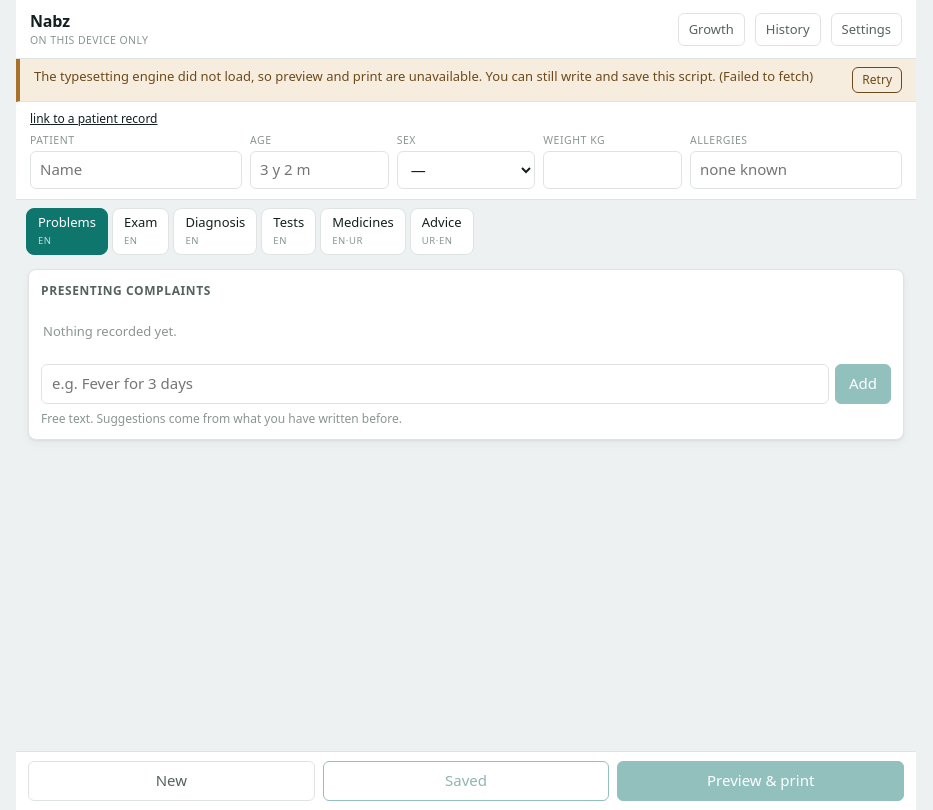
Test: problems and diagnosis are free text › offers no chips for diagnosis
The image size is (933, 810).
Click the tab "Diagnosis EN".
click(215, 232)  # box [174,208,257,255]
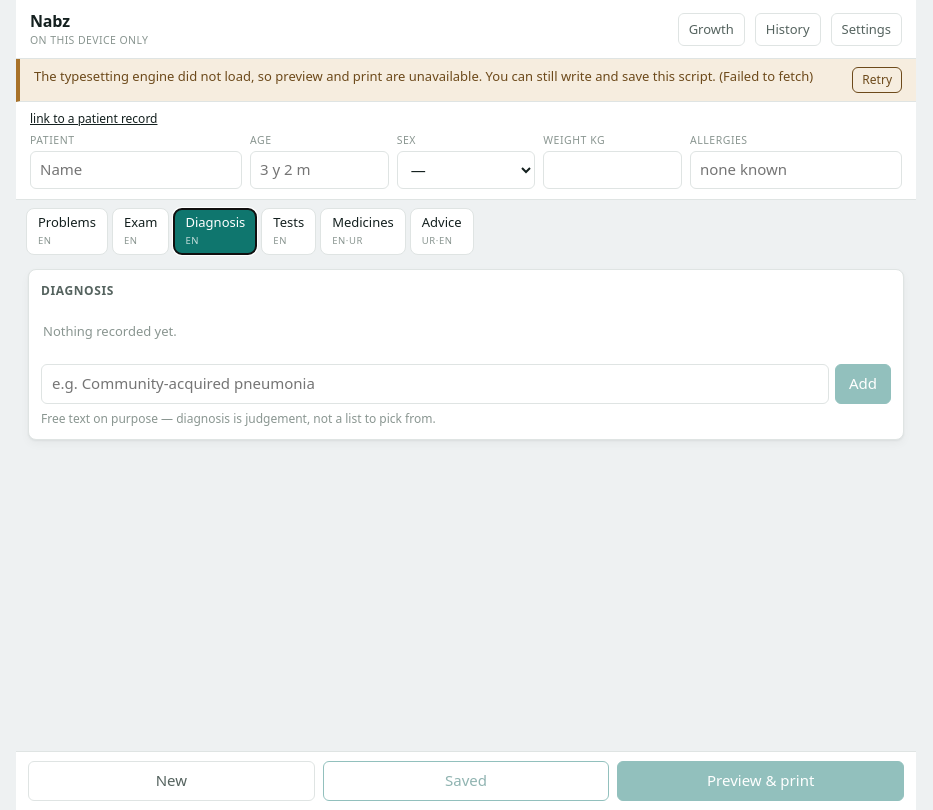
Expected: the text "diagnosis is judgement" is shown, [41,410,436,427]
